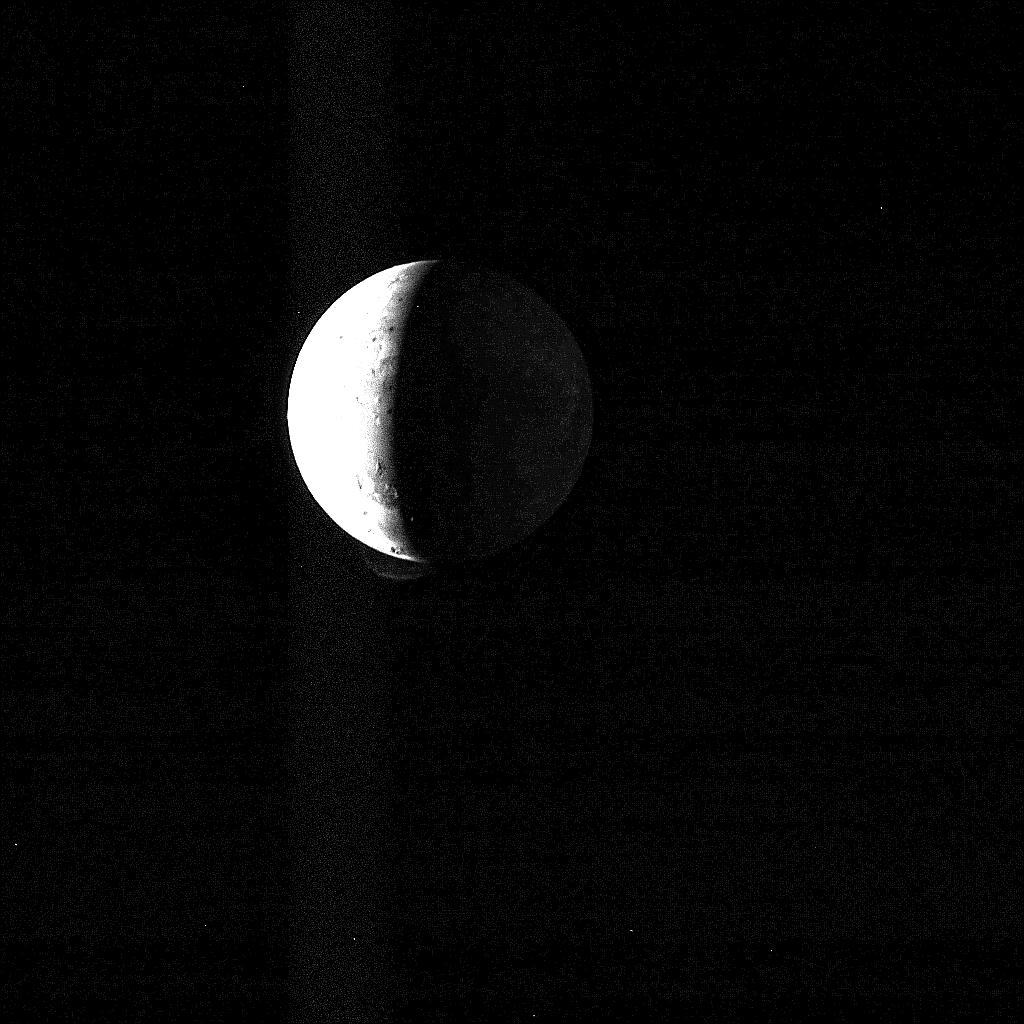plumes: (357, 548, 434, 582)
